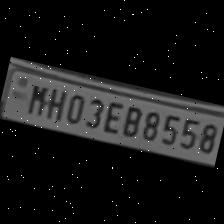0: (61, 86, 88, 124)
3: (80, 90, 108, 130)
5: (156, 108, 182, 146), (174, 112, 200, 150)
8: (194, 116, 222, 154), (138, 105, 164, 142)
B: (118, 99, 144, 138)
E: (98, 94, 125, 134)
H: (42, 82, 66, 119)
M: (22, 78, 50, 116)
